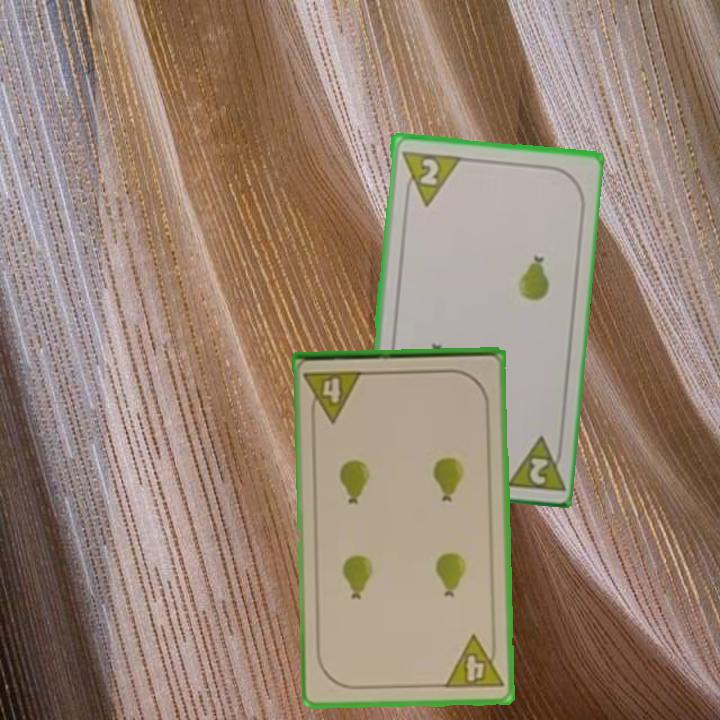2p: (397, 146, 462, 209), (499, 431, 565, 493)
4p: (441, 632, 506, 693), (301, 367, 366, 425)
